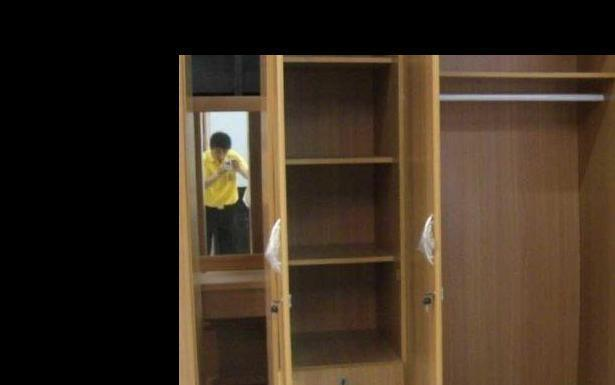Armario: (183, 59, 615, 385)
